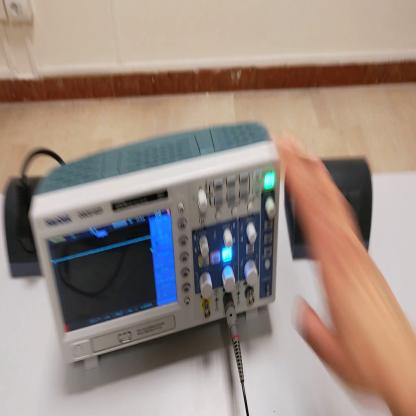hand: (276, 134, 414, 399)
oscilloscope: (21, 114, 283, 372)
socket: (4, 178, 43, 280)
